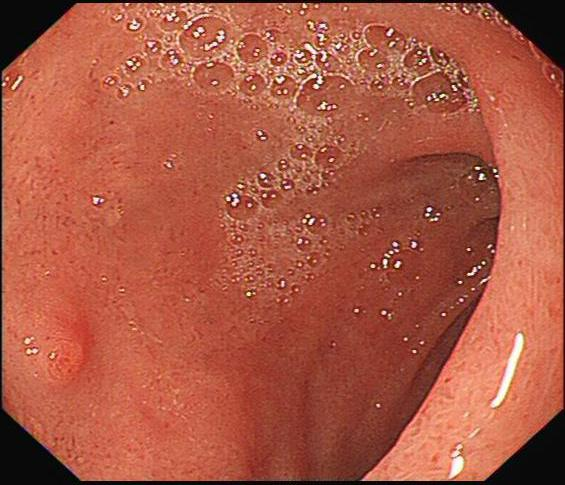Polyp: (15, 313, 99, 397)
